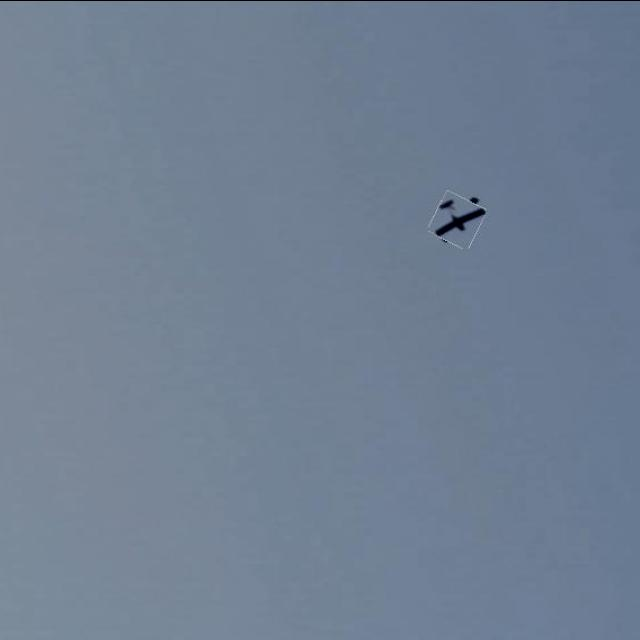plane: (428, 189, 489, 250)
